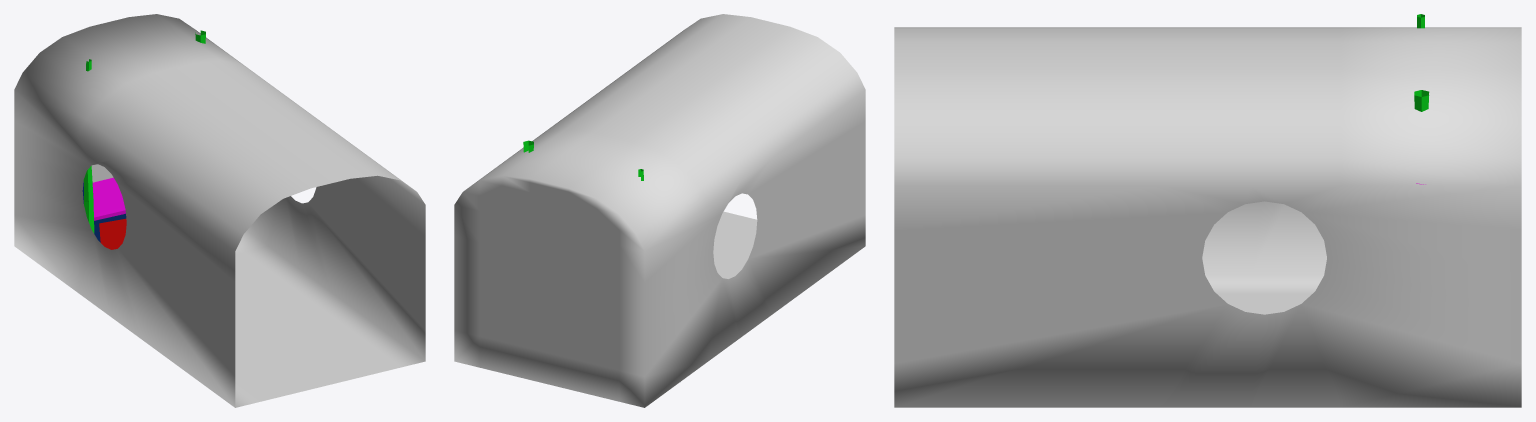
Rendered from FTT_InteriorWalls.fbx.
3 renders of one model, left to right at view 1: azimuth 30°, elevation 25°; view 2: azimuth 150°, elevation 25°; view 3: azimuth 270°, elevation 25°, orthographic. The views are drawn at different scales.
Parts seen in each view (by area): view 1: Trailer_LowPoly, Bed_LowPoly; view 2: Trailer_LowPoly; view 3: Trailer_LowPoly.
Boxes of the visible parts, box(x1,y1,x2,y2) form: Trailer_LowPoly: box(14, 14, 425, 407); Bed_LowPoly: box(82, 30, 205, 249); Trailer_LowPoly: box(454, 14, 865, 407); Trailer_LowPoly: box(894, 27, 1521, 407).
Size of the model in its own units: 399 by 405 by 801.
